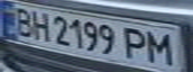1: (66, 17, 84, 50)
2: (48, 14, 72, 47)
9: (96, 21, 121, 56), (81, 19, 100, 52)
B: (6, 4, 39, 37)
H: (27, 9, 54, 42)
M: (142, 28, 181, 65)
P: (121, 25, 151, 61)
